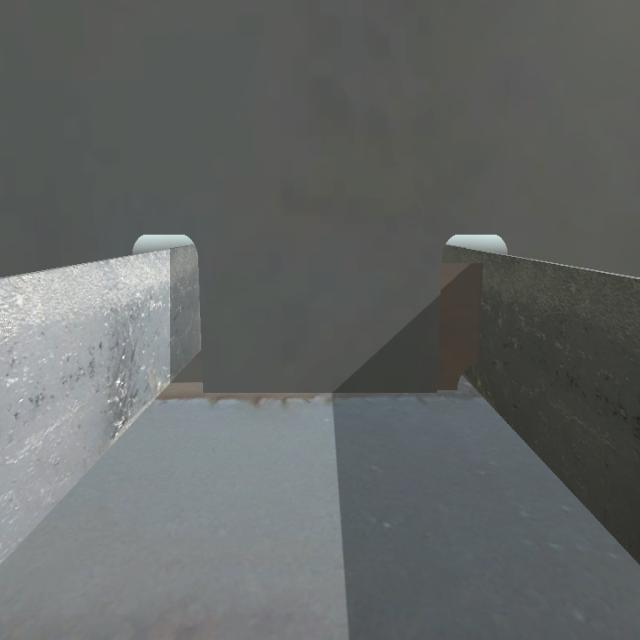fillet_hole: (453, 367, 475, 398)
fillet_yong_jeop_jang: (203, 374, 459, 404)
longi_yong_jeop_jang: (471, 260, 485, 372)
plate_behind: (437, 260, 481, 391)
